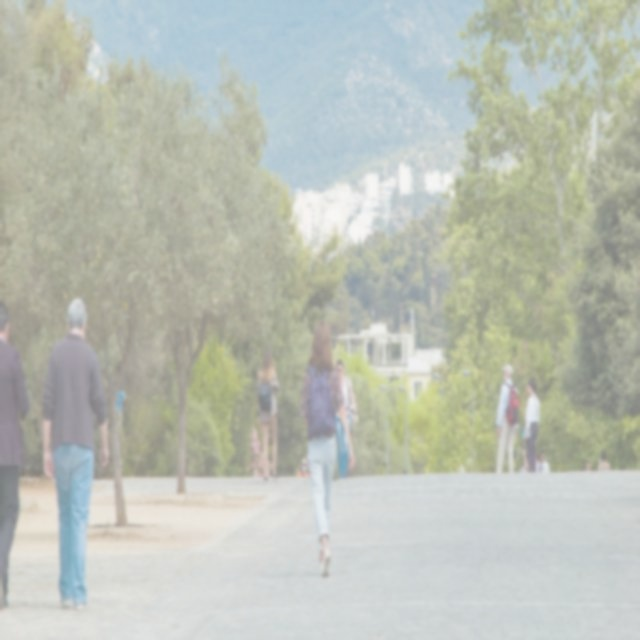pessoa: (40, 296, 110, 612), (300, 318, 356, 578), (0, 296, 31, 614), (256, 347, 281, 484), (334, 358, 358, 481), (494, 364, 520, 474), (524, 377, 540, 473), (115, 388, 125, 430), (535, 448, 550, 473), (597, 448, 611, 471), (519, 444, 530, 472), (296, 458, 310, 478), (534, 452, 542, 473), (584, 459, 592, 472), (402, 468, 408, 474)
